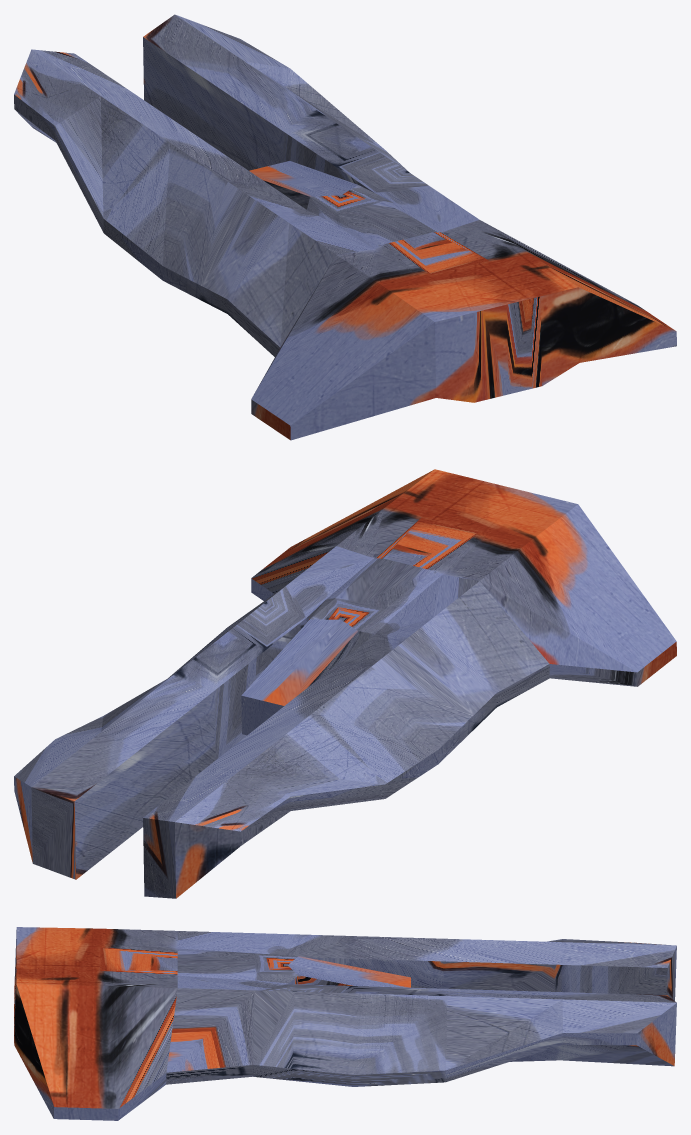
The model's file is ship.obj.
3 renders of one model, top to bottom at view 1: azimuth 30°, elevation 25°; view 2: azimuth 150°, elevation 25°; view 3: azimuth 270°, elevation 25°, orthographic. The views are drawn at different scales.
Visible parts, largest first — view 1: Mesh_Cube_Cube.001; view 2: Mesh_Cube_Cube.001; view 3: Mesh_Cube_Cube.001.
Part boxes in pixels (left/top/right/bottom): Mesh_Cube_Cube.001: left=14, top=14, right=676, bottom=440; Mesh_Cube_Cube.001: left=14, top=469, right=676, bottom=898; Mesh_Cube_Cube.001: left=14, top=927, right=676, bottom=1120.
Bounding box in the file's own units: 4.81 × 1.33 × 8.75.
